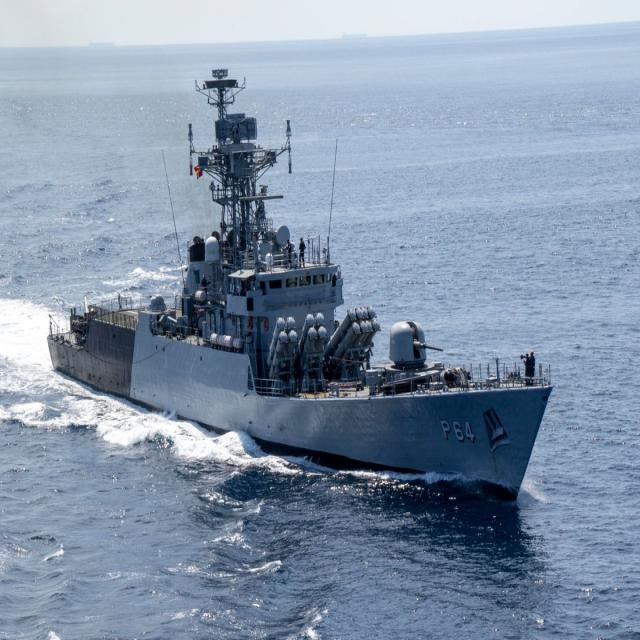Corvette-Kora-Class-IND: (42, 58, 557, 516)
